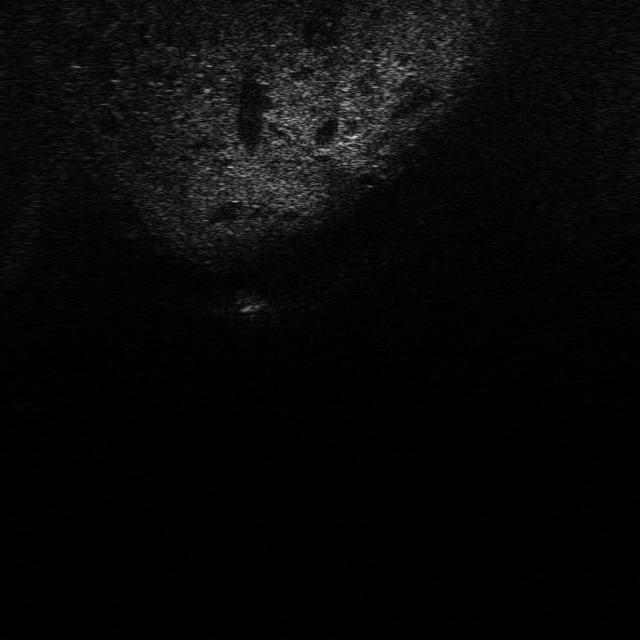cube: (230, 288, 270, 314)
